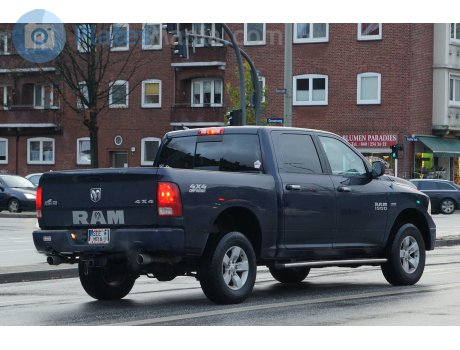License Plates: (89, 228, 109, 239)
